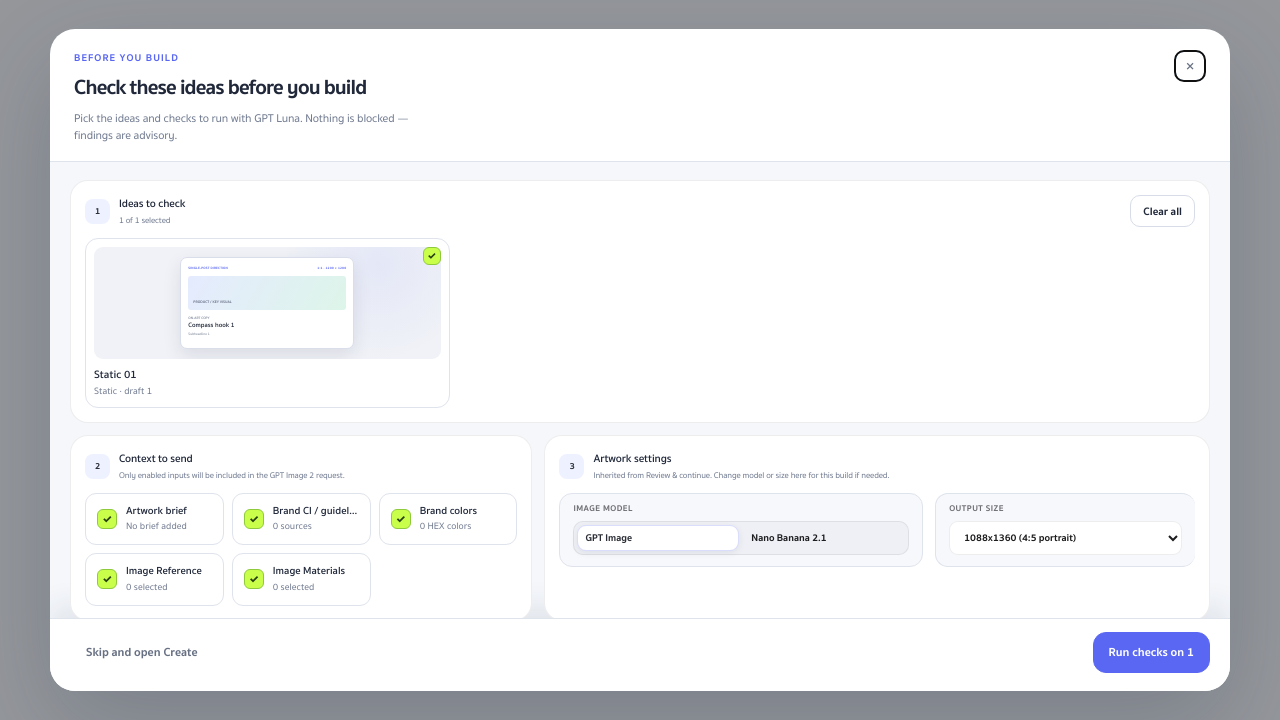
PreflightModal › locks the whole idea while one fix is in flight so a second click can't race it
Click the button "Run checks on 1". click: {"x": 1151, "y": 653}
box: top-left (1093, 632), bottom-right (1210, 673)
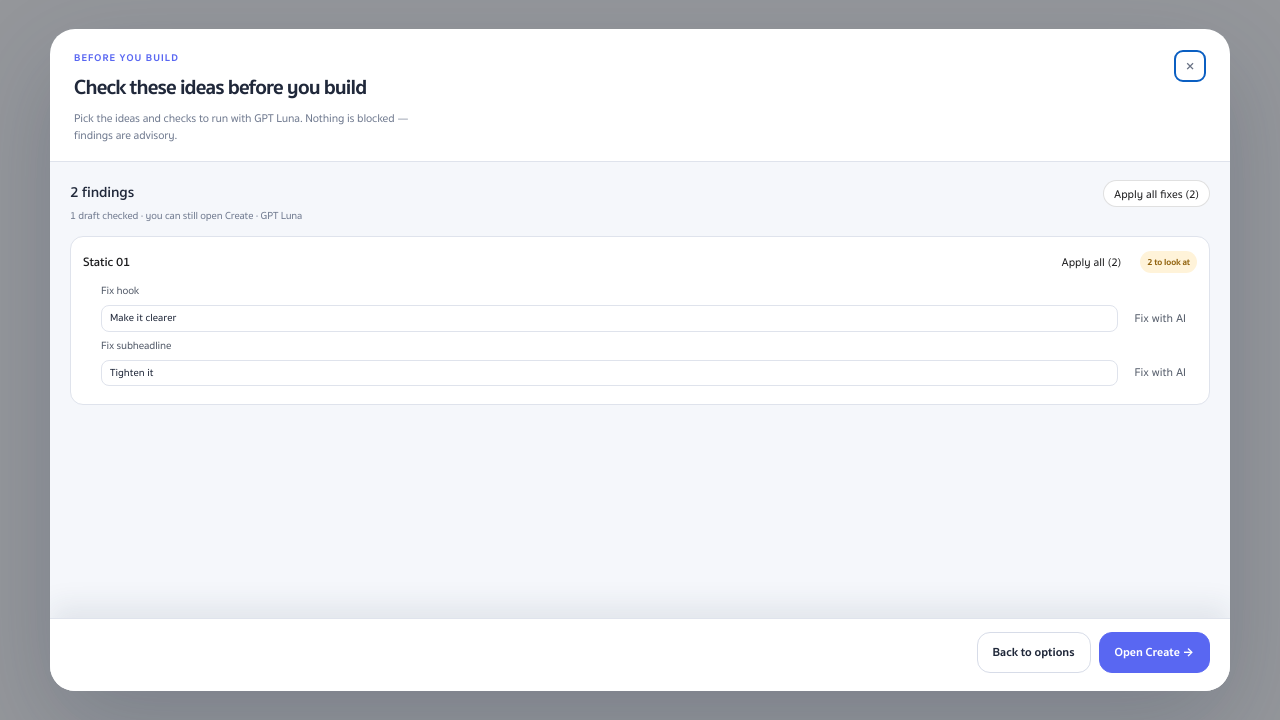
Result: the text "Fix hook" is shown at top-left (101, 282), bottom-right (139, 299)
Click the 1st button "Fix with AI". click: {"x": 1160, "y": 318}
box: top-left (1124, 305), bottom-right (1197, 332)
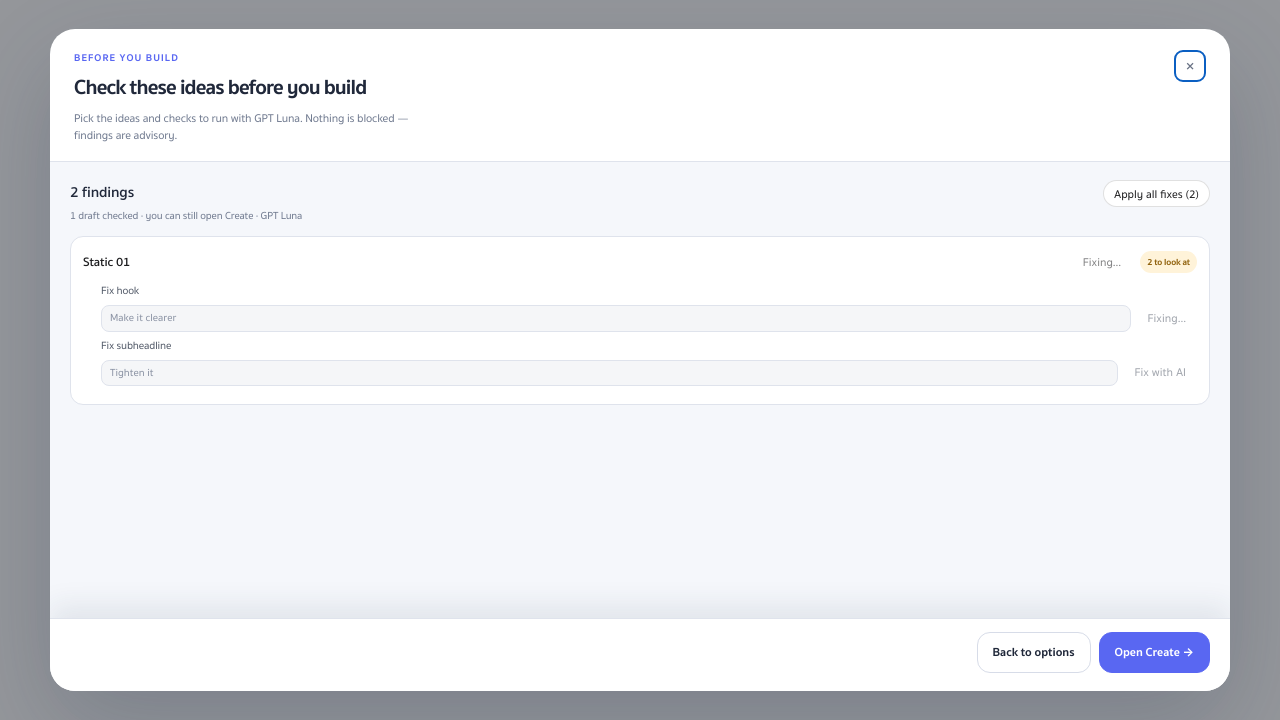
Result: the number of buttons "Fixing…" is 2 at top-left (1072, 248), bottom-right (1132, 275); top-left (1137, 305), bottom-right (1197, 332)
Result: the button "Fix with AI" is disabled
Click the button "Fix with AI". click: {"x": 1160, "y": 373}
box: top-left (1124, 360), bottom-right (1197, 387)
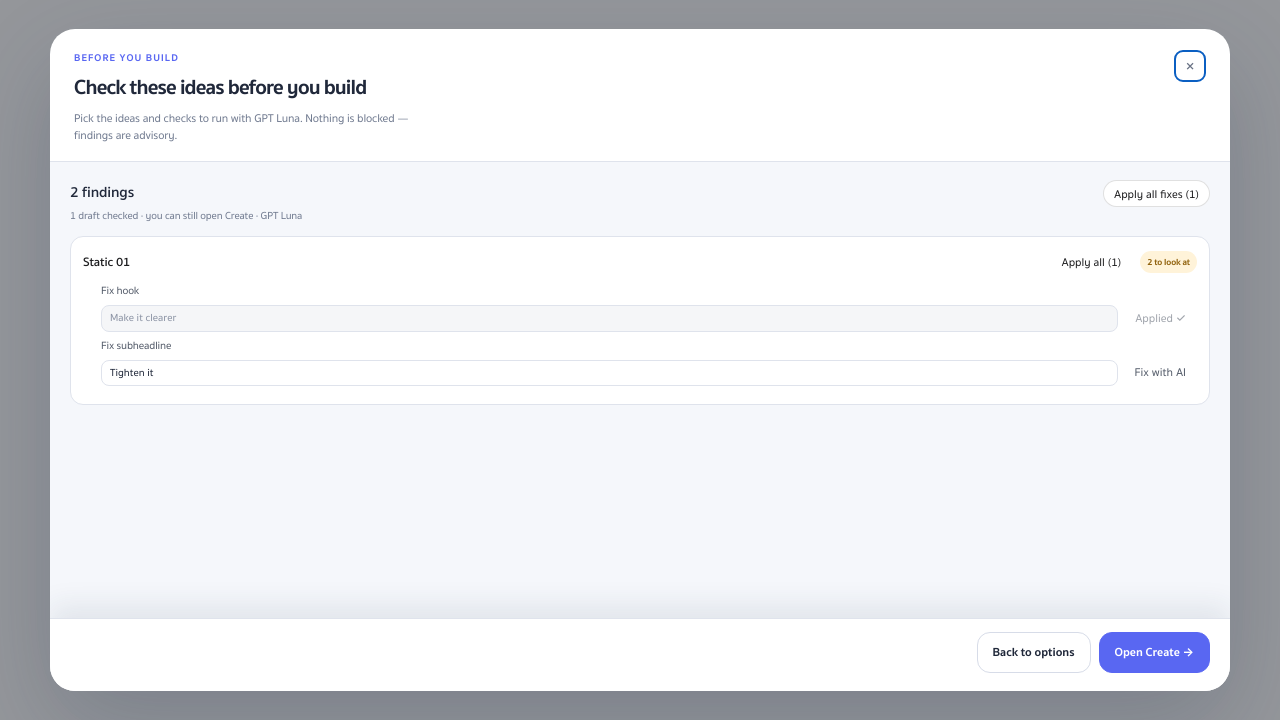
Result: the number of buttons "Applied ✓" is 1 at top-left (1124, 305), bottom-right (1197, 332)
// Now that the idea is unlocked again, the second finding can be fixed.
Click the button "Fix with AI". click: {"x": 1160, "y": 373}
box: top-left (1124, 360), bottom-right (1197, 387)
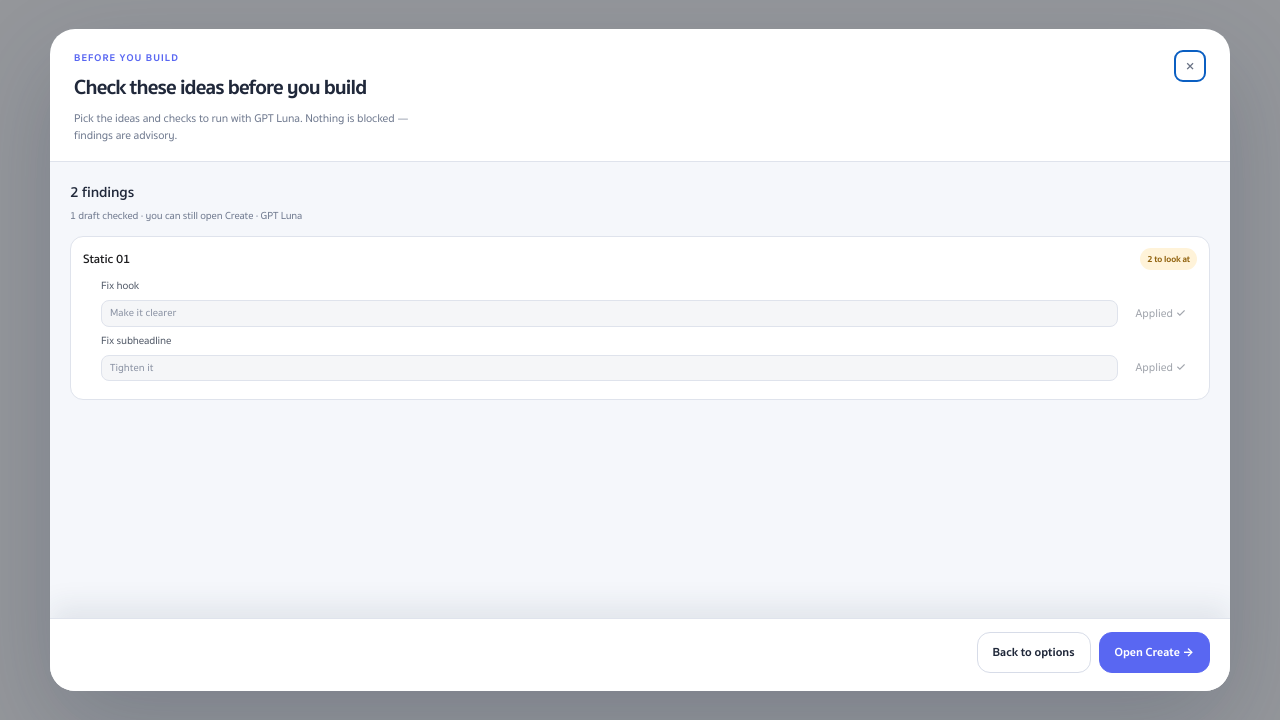
Result: the number of buttons "Applied ✓" is 2 at top-left (1124, 300), bottom-right (1197, 327); top-left (1124, 355), bottom-right (1197, 382)
